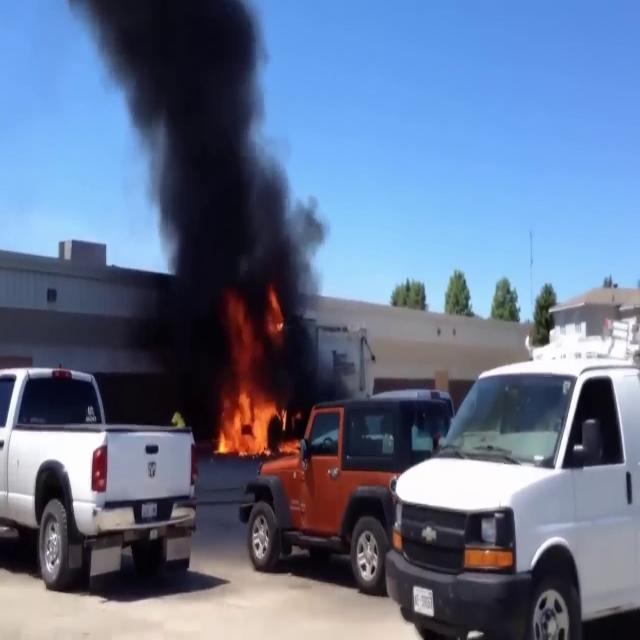Fire: (213, 293, 287, 462)
Smoke: (2, 0, 334, 401)
